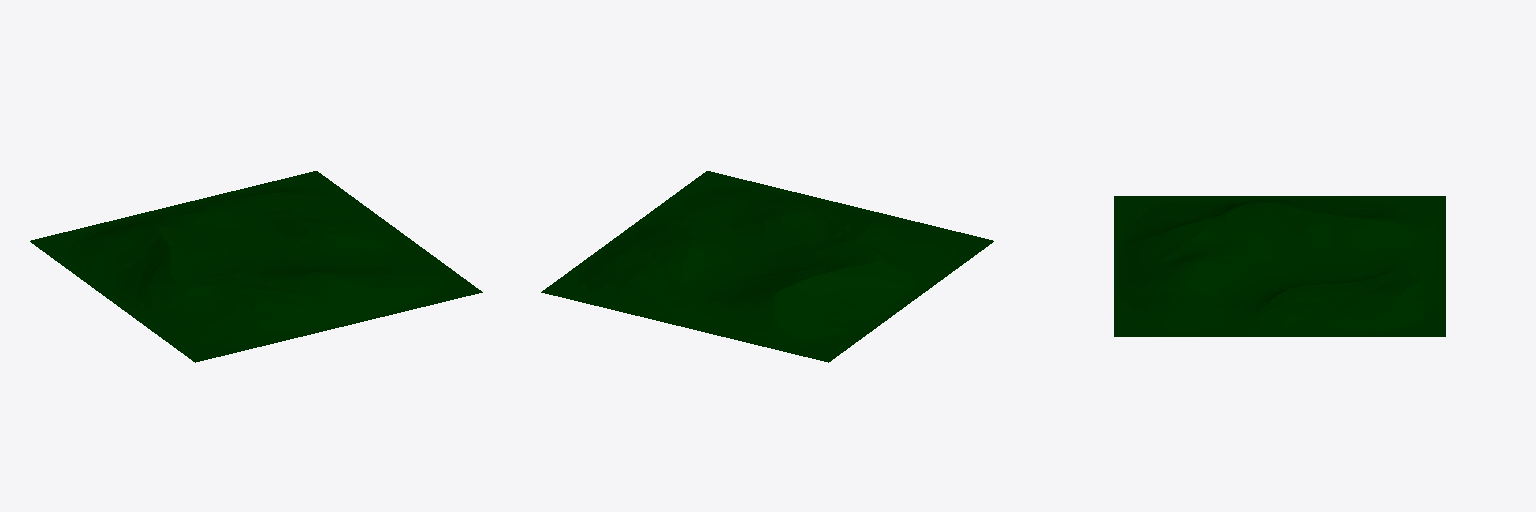
File: terrain.obj
3 renders of one model, left to right at view 1: azimuth 30°, elevation 25°; view 2: azimuth 150°, elevation 25°; view 3: azimuth 270°, elevation 25°, orthographic.
Visible parts, largest first — view 1: Landscape; view 2: Landscape; view 3: Landscape.
Part boxes in pixels (left/top/right/bottom): Landscape: left=30, top=171, right=482, bottom=362; Landscape: left=541, top=171, right=993, bottom=362; Landscape: left=1114, top=196, right=1445, bottom=336.
Bounding box in the file's own units: 10 × 0.7094 × 10.